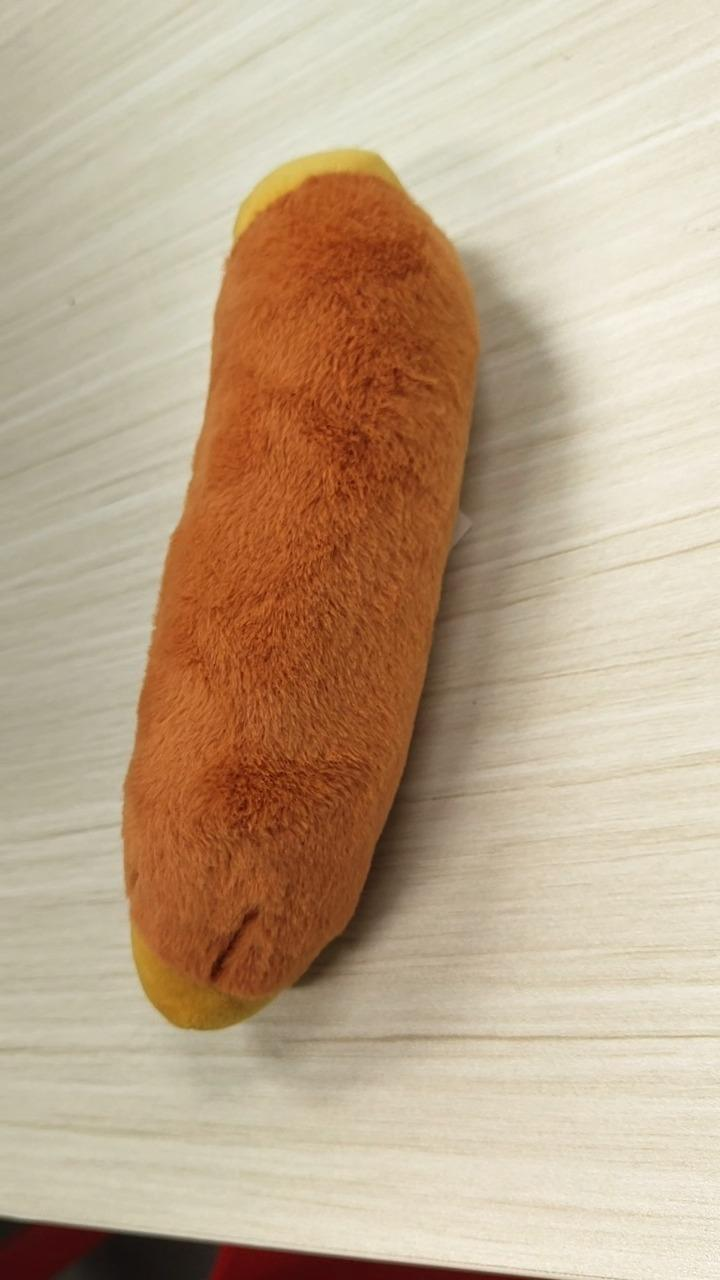hotdog: (120, 146, 481, 1031)
